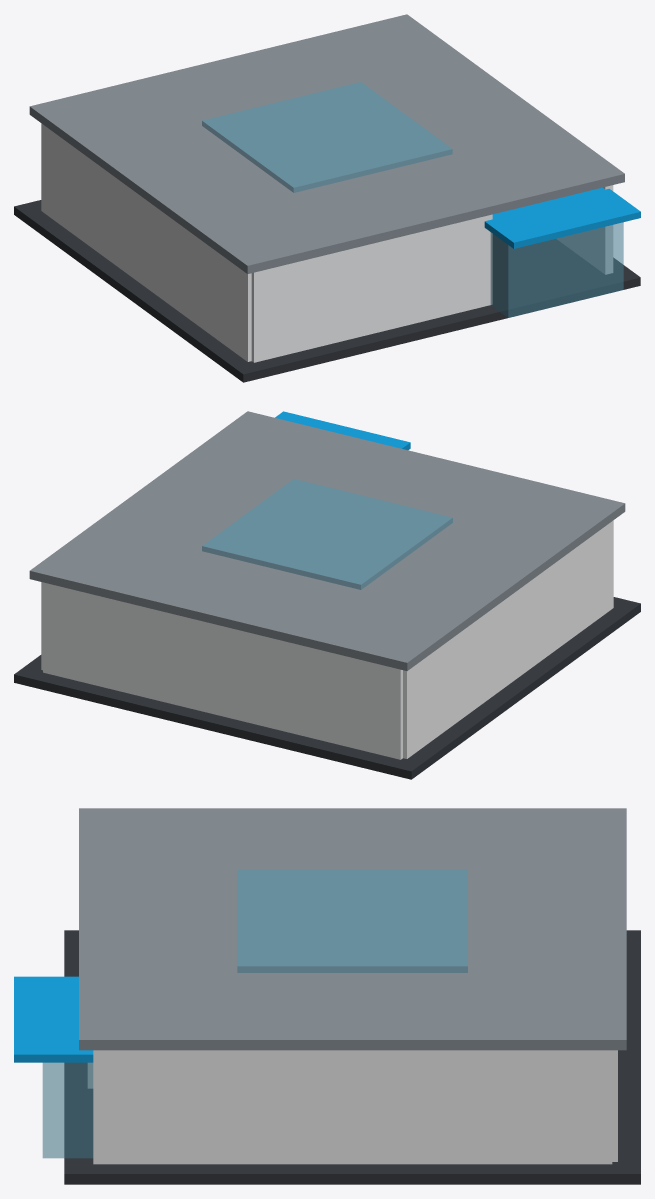
File: laboratorio.glb
The picture shows the model from 3 angles, top to bottom: view 1: azimuth 30°, elevation 25°; view 2: azimuth 150°, elevation 25°; view 3: azimuth 270°, elevation 25°; orthographic projection. The views are drawn at different scales.
Bounding box in the file's own units: 20 × 5.55 × 21.75.
